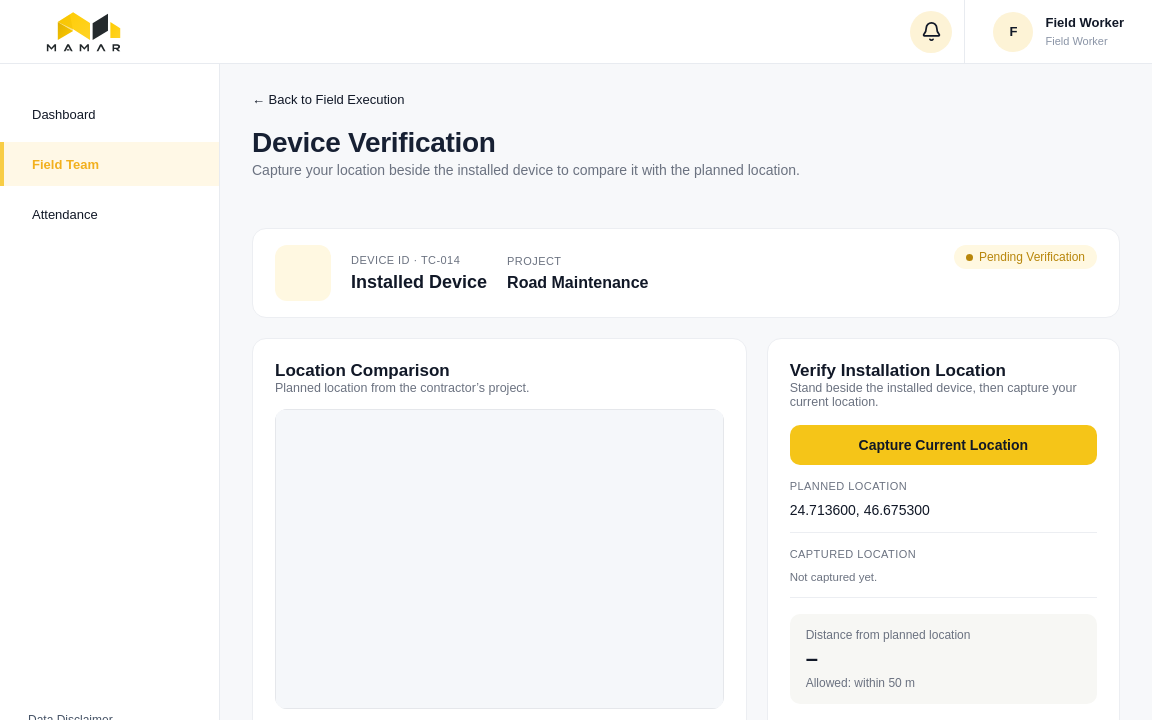
Field Worker DeviceVerification › saves the verification and displays success
Step 1. Click the button "Capture Current Location" → (943, 445), box [790,425,1097,465]
(page scrolled)
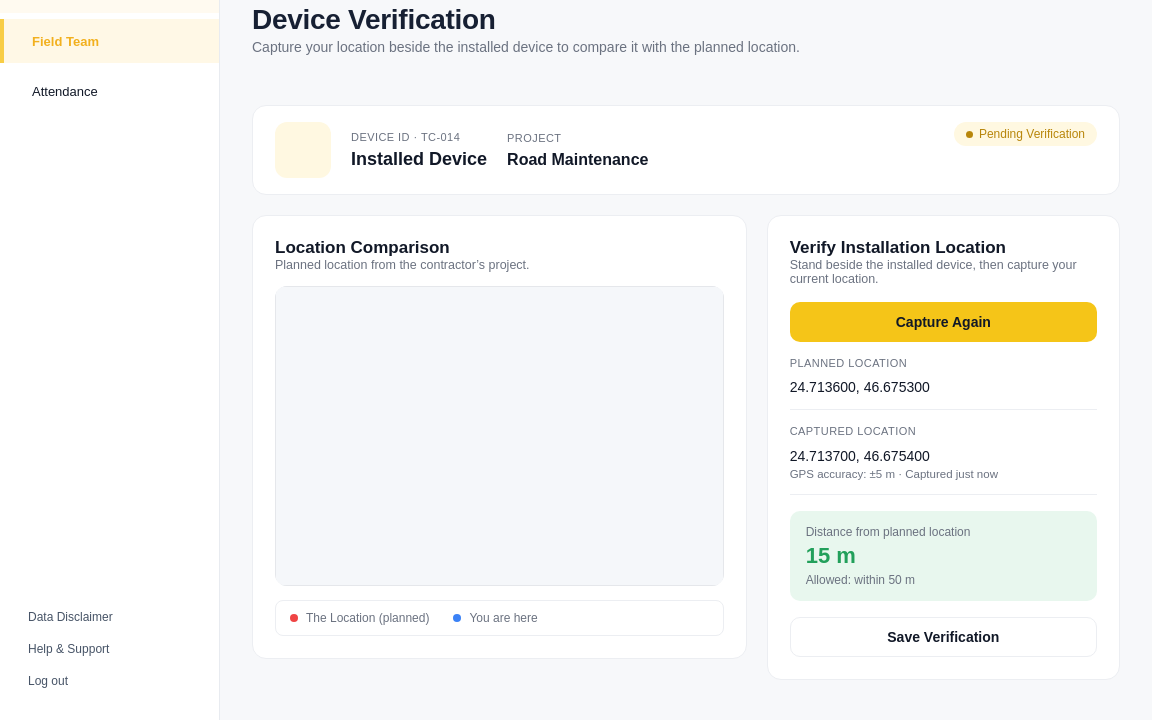
Step 2. Click the button "Save Verification" → (943, 637), box [790,617,1097,657]
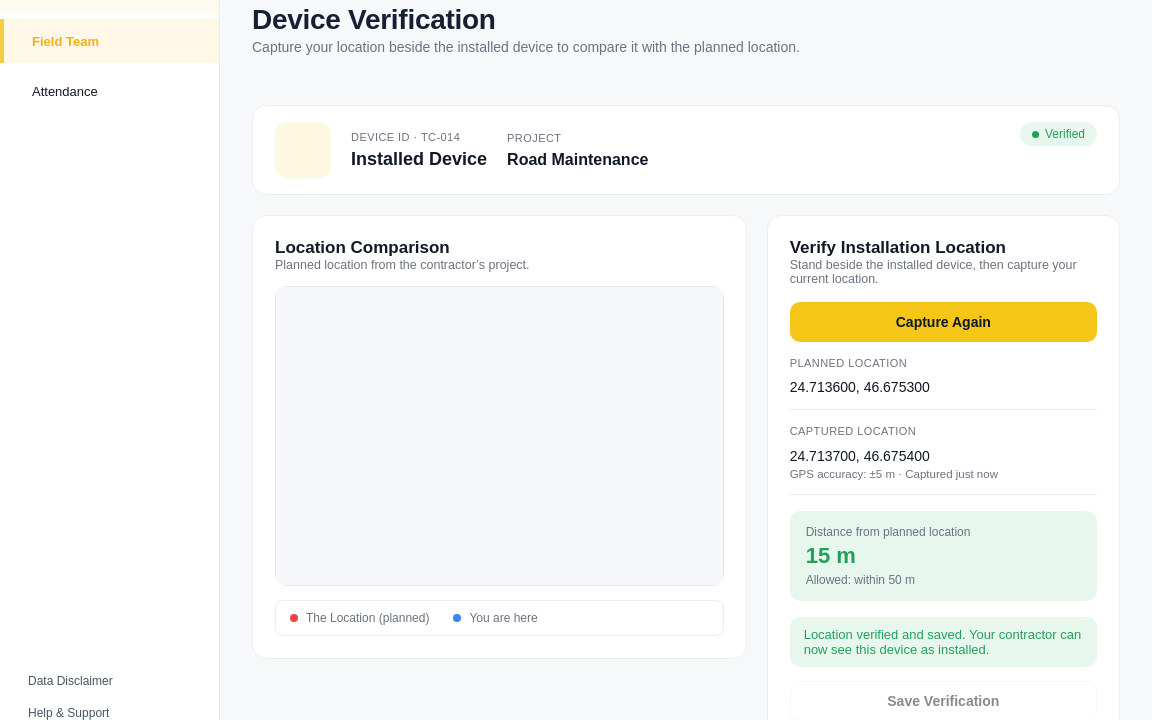
Result: the message shows "Location verified and saved." at [804,627,1081,657]
Result: the text "Verified" is shown at [1020,122,1097,146]
Result: the button "Save Verification" is disabled at [790,681,1097,719]
